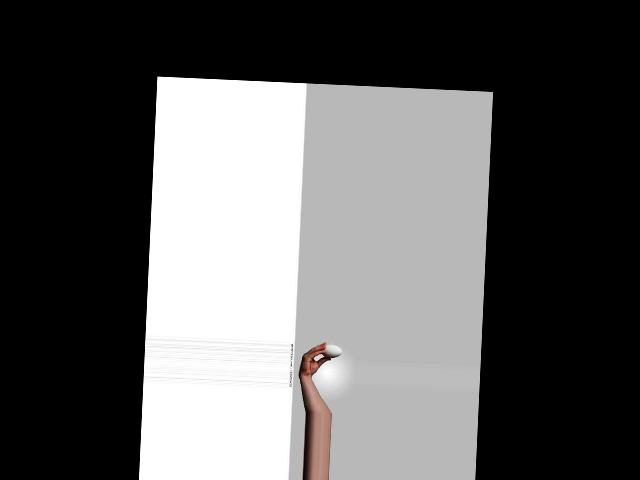egg: (321, 344, 342, 359)
